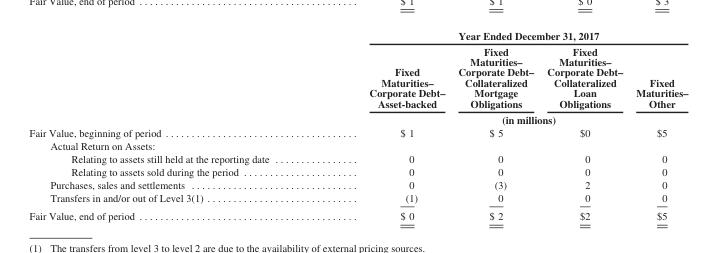table: (28, 29, 687, 221)
table column: (28, 29, 318, 221), (318, 29, 450, 221), (450, 29, 539, 221), (539, 29, 628, 221), (628, 29, 687, 221)
table column header: (28, 29, 687, 125)
table projected row header: (28, 138, 687, 151)
table row: (28, 42, 687, 110), (28, 190, 687, 206), (28, 110, 687, 125), (28, 206, 687, 221), (28, 29, 687, 42), (28, 125, 687, 138), (28, 138, 687, 151), (28, 151, 687, 164), (28, 164, 687, 177), (28, 177, 687, 190)
table spanning cell: (318, 110, 687, 125), (318, 29, 687, 42)
